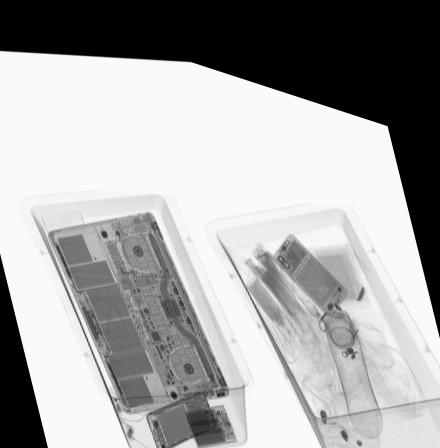Powerbank: (183, 390, 239, 438)
